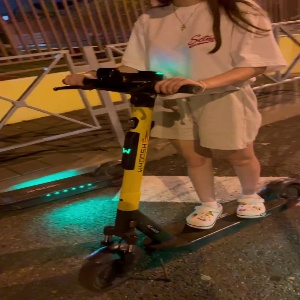human on a scooter: (52, 1, 300, 293)
